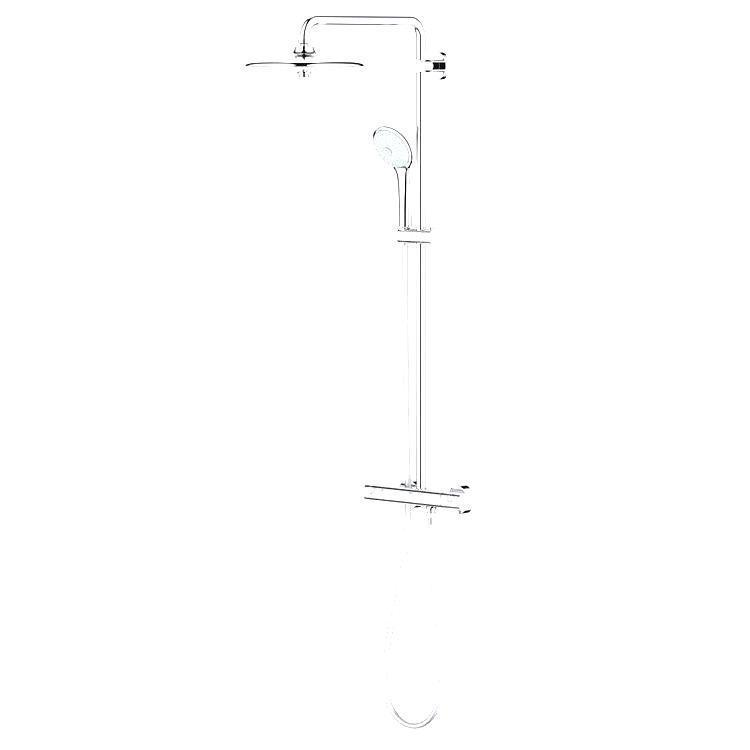Ducha: (245, 0, 475, 734)
